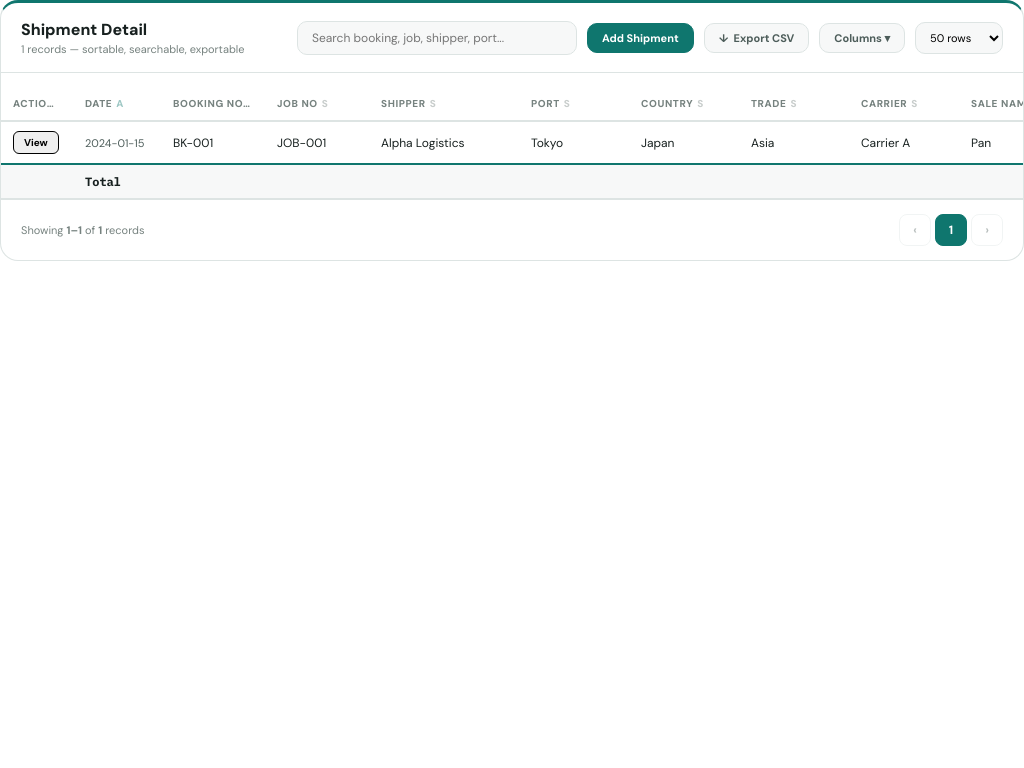
Test: ShipmentsPage › keeps delete failures visible inside the confirmation dialog
What coordinates should you click on to do the following:
click the button with aria-label "View BK-001"
I would click on:
 (36, 142)
Its box is [13,131,59,154].
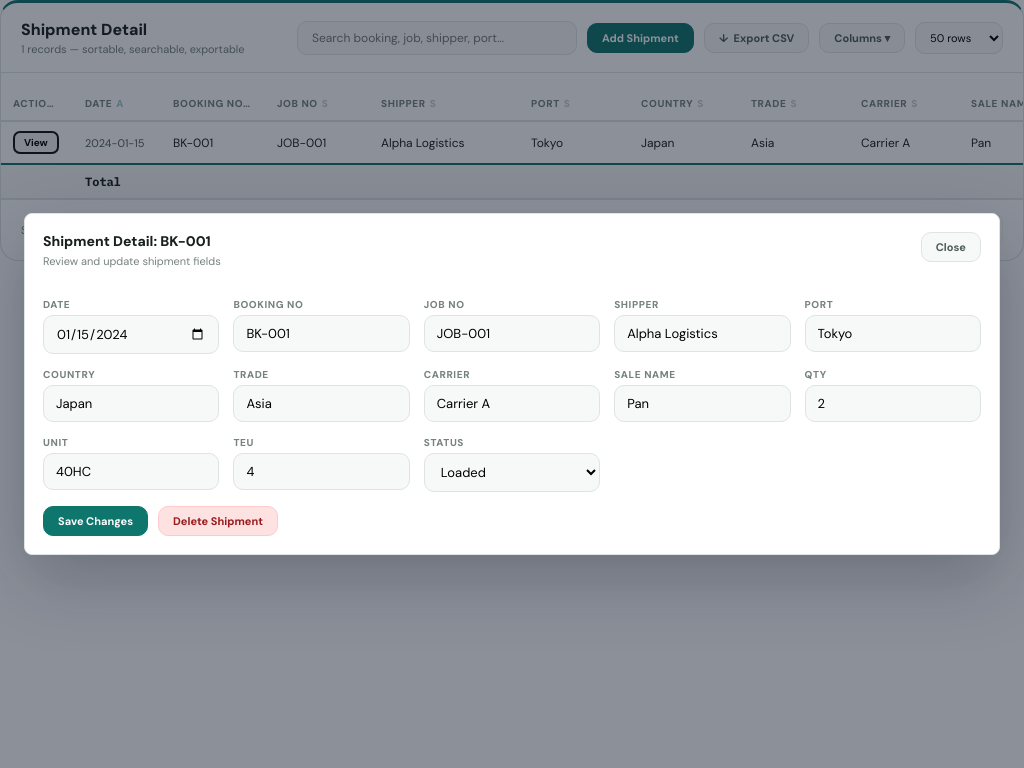
What coordinates should you click on to do the following:
click the button "Delete Shipment"
I would click on:
 (218, 521)
Its box is [158,506,278,536].
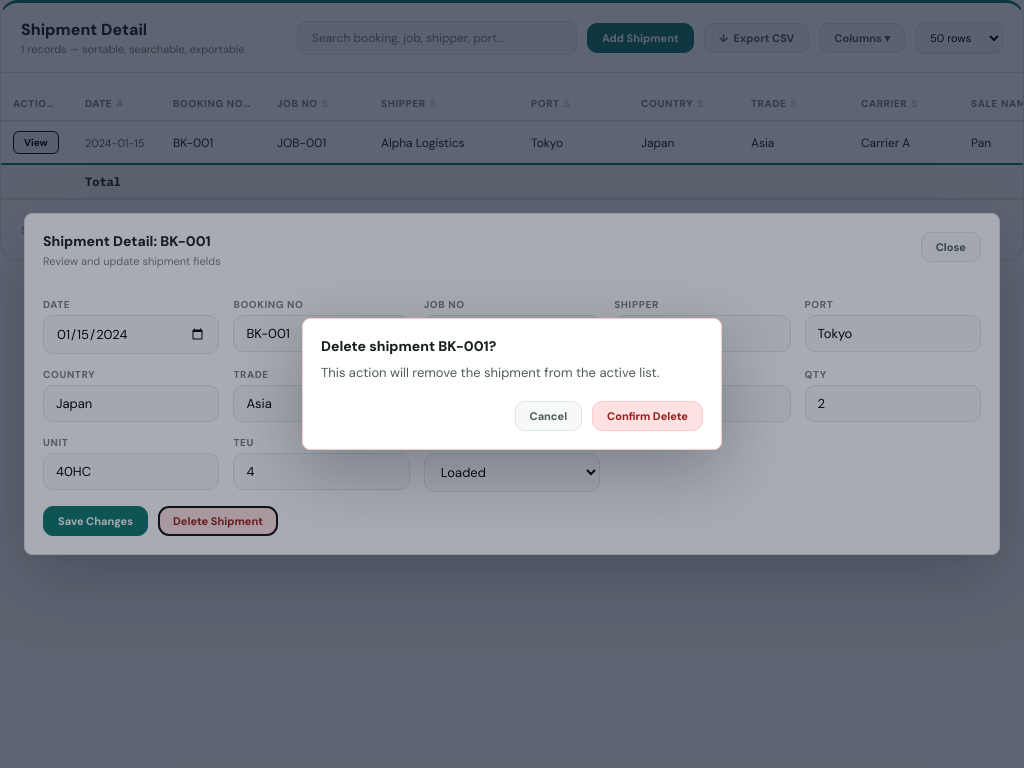
What coordinates should you click on to do the following:
click the button "Confirm Delete"
I would click on:
 (648, 416)
Its box is [592,401,703,431].
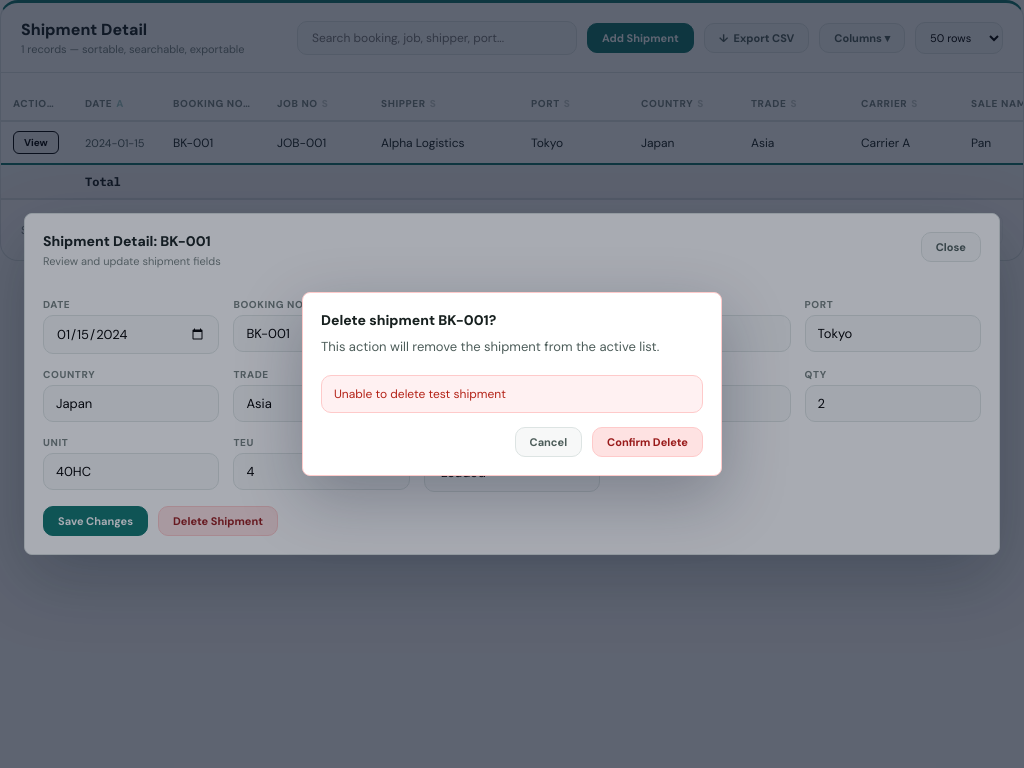
Expected: the dialog "Delete shipment BK-001?" is shown, [302,292,722,476]
Expected: the text "Unable to delete test shipment" is shown, [321,375,703,413]
